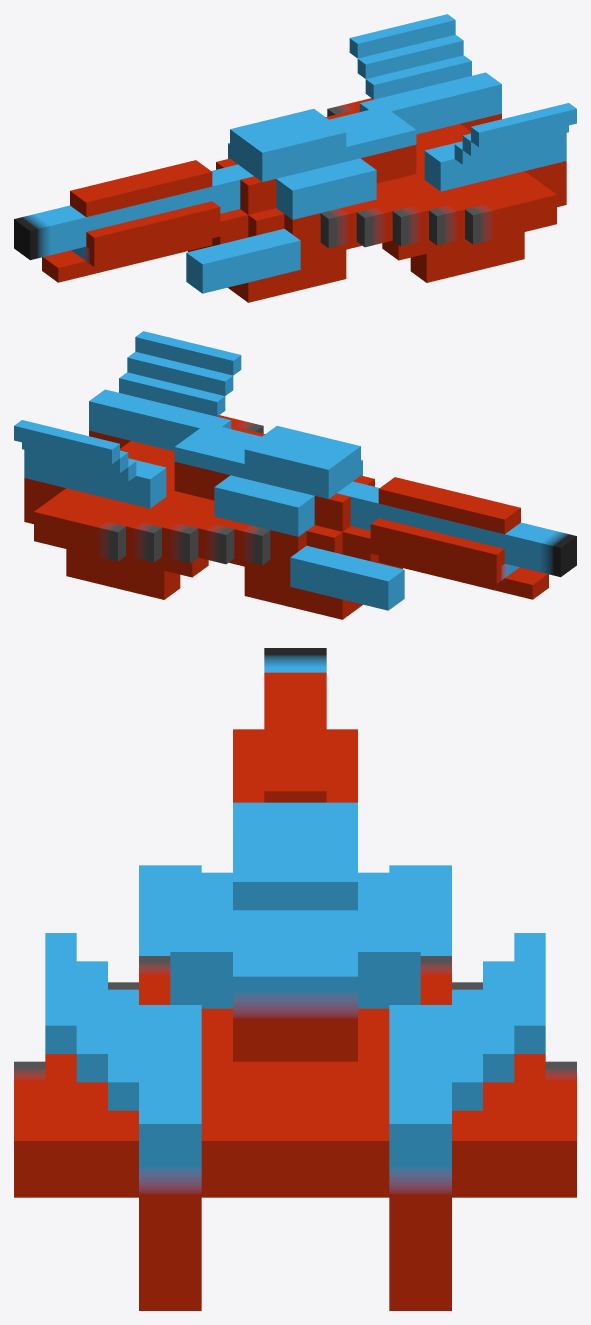
Rendered from Player_0.fbx.
The picture shows the model from 3 angles, top to bottom: view 1: azimuth 30°, elevation 25°; view 2: azimuth 150°, elevation 25°; view 3: azimuth 270°, elevation 25°; orthographic projection. The views are drawn at different scales.
Visible parts, largest first — view 1: Player_0; view 2: Player_0; view 3: Player_0.
Boxes of the visible parts, x1=… form: Player_0: x1=14, y1=14, x2=576, y2=302; Player_0: x1=14, y1=331, x2=576, y2=619; Player_0: x1=14, y1=648, x2=576, y2=1310.
Bounding box in the file's own units: 36 × 11 × 18.
Materials: 1 (1 with a texture image).
